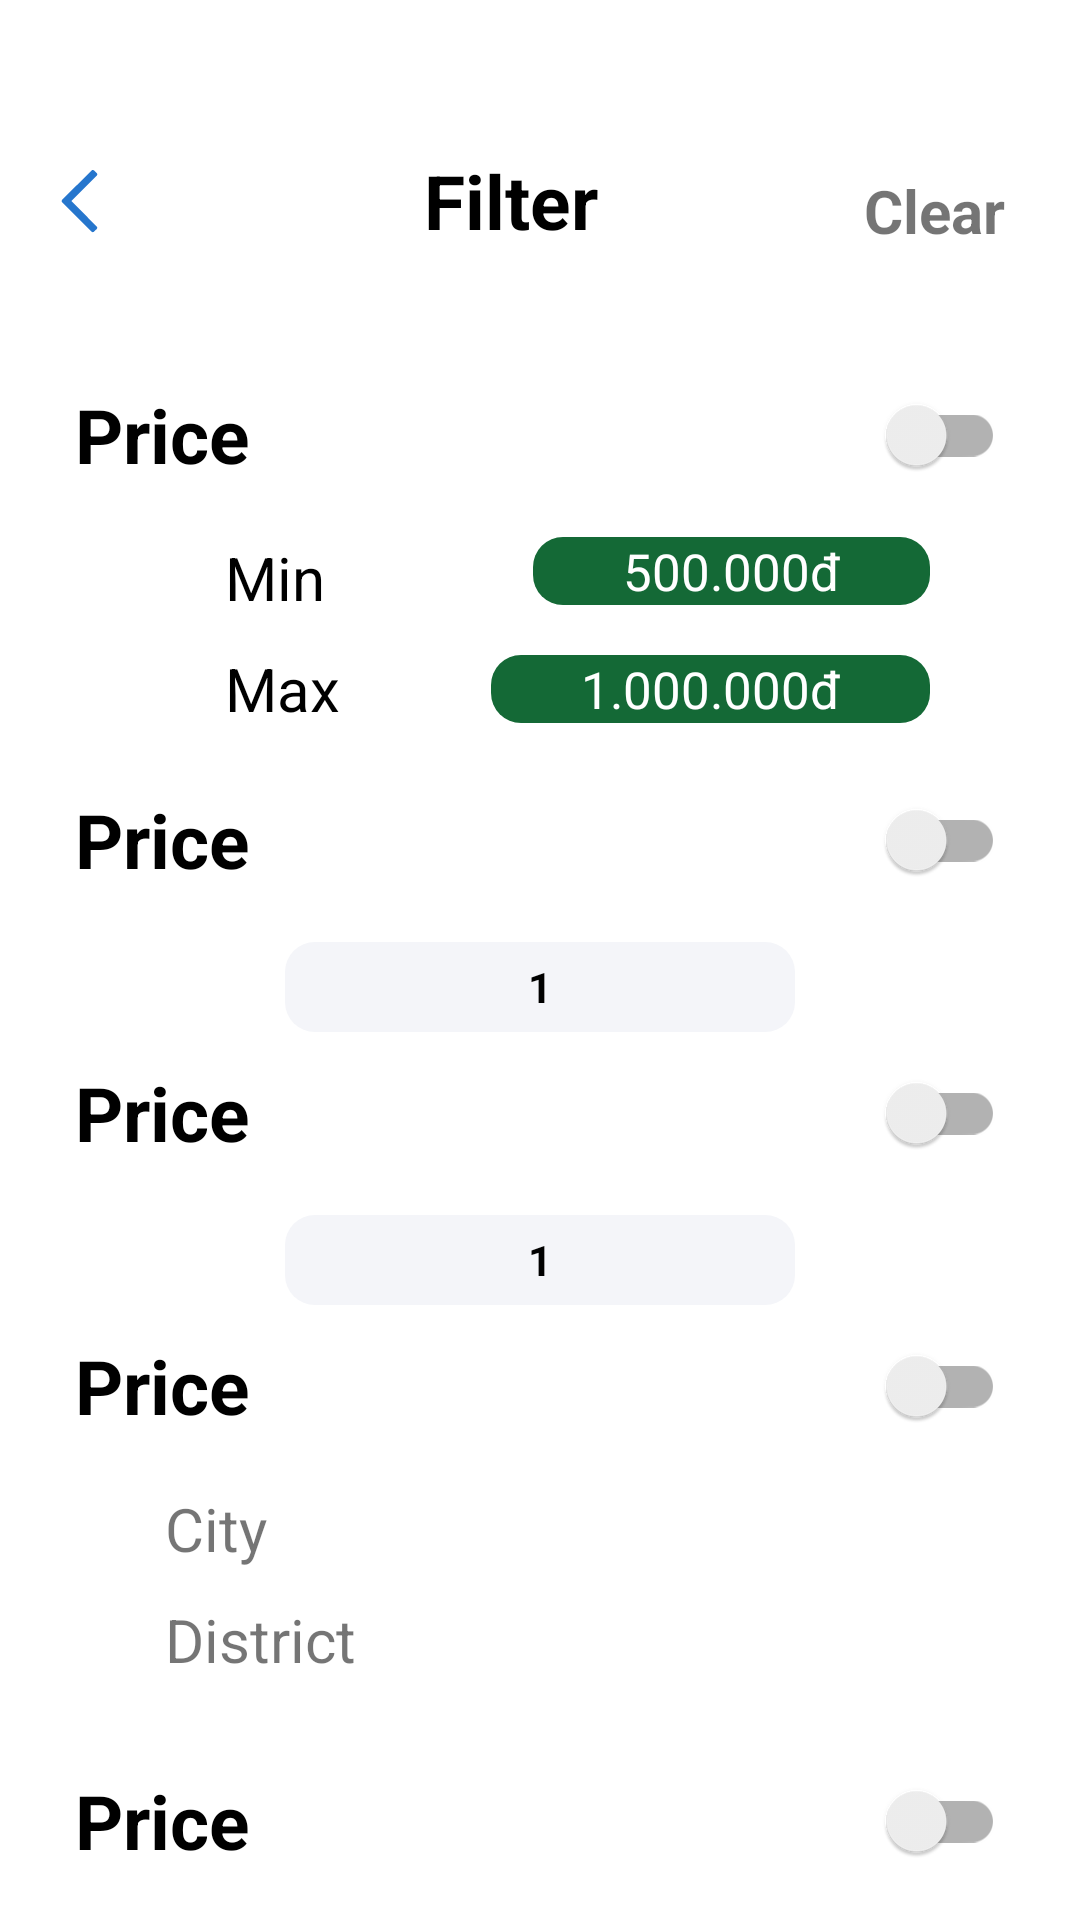

Named icons in this screenshot (1080*1920) and their bounding boxes, (x1, y1, x2, y2):
back: (61, 170, 98, 233)
